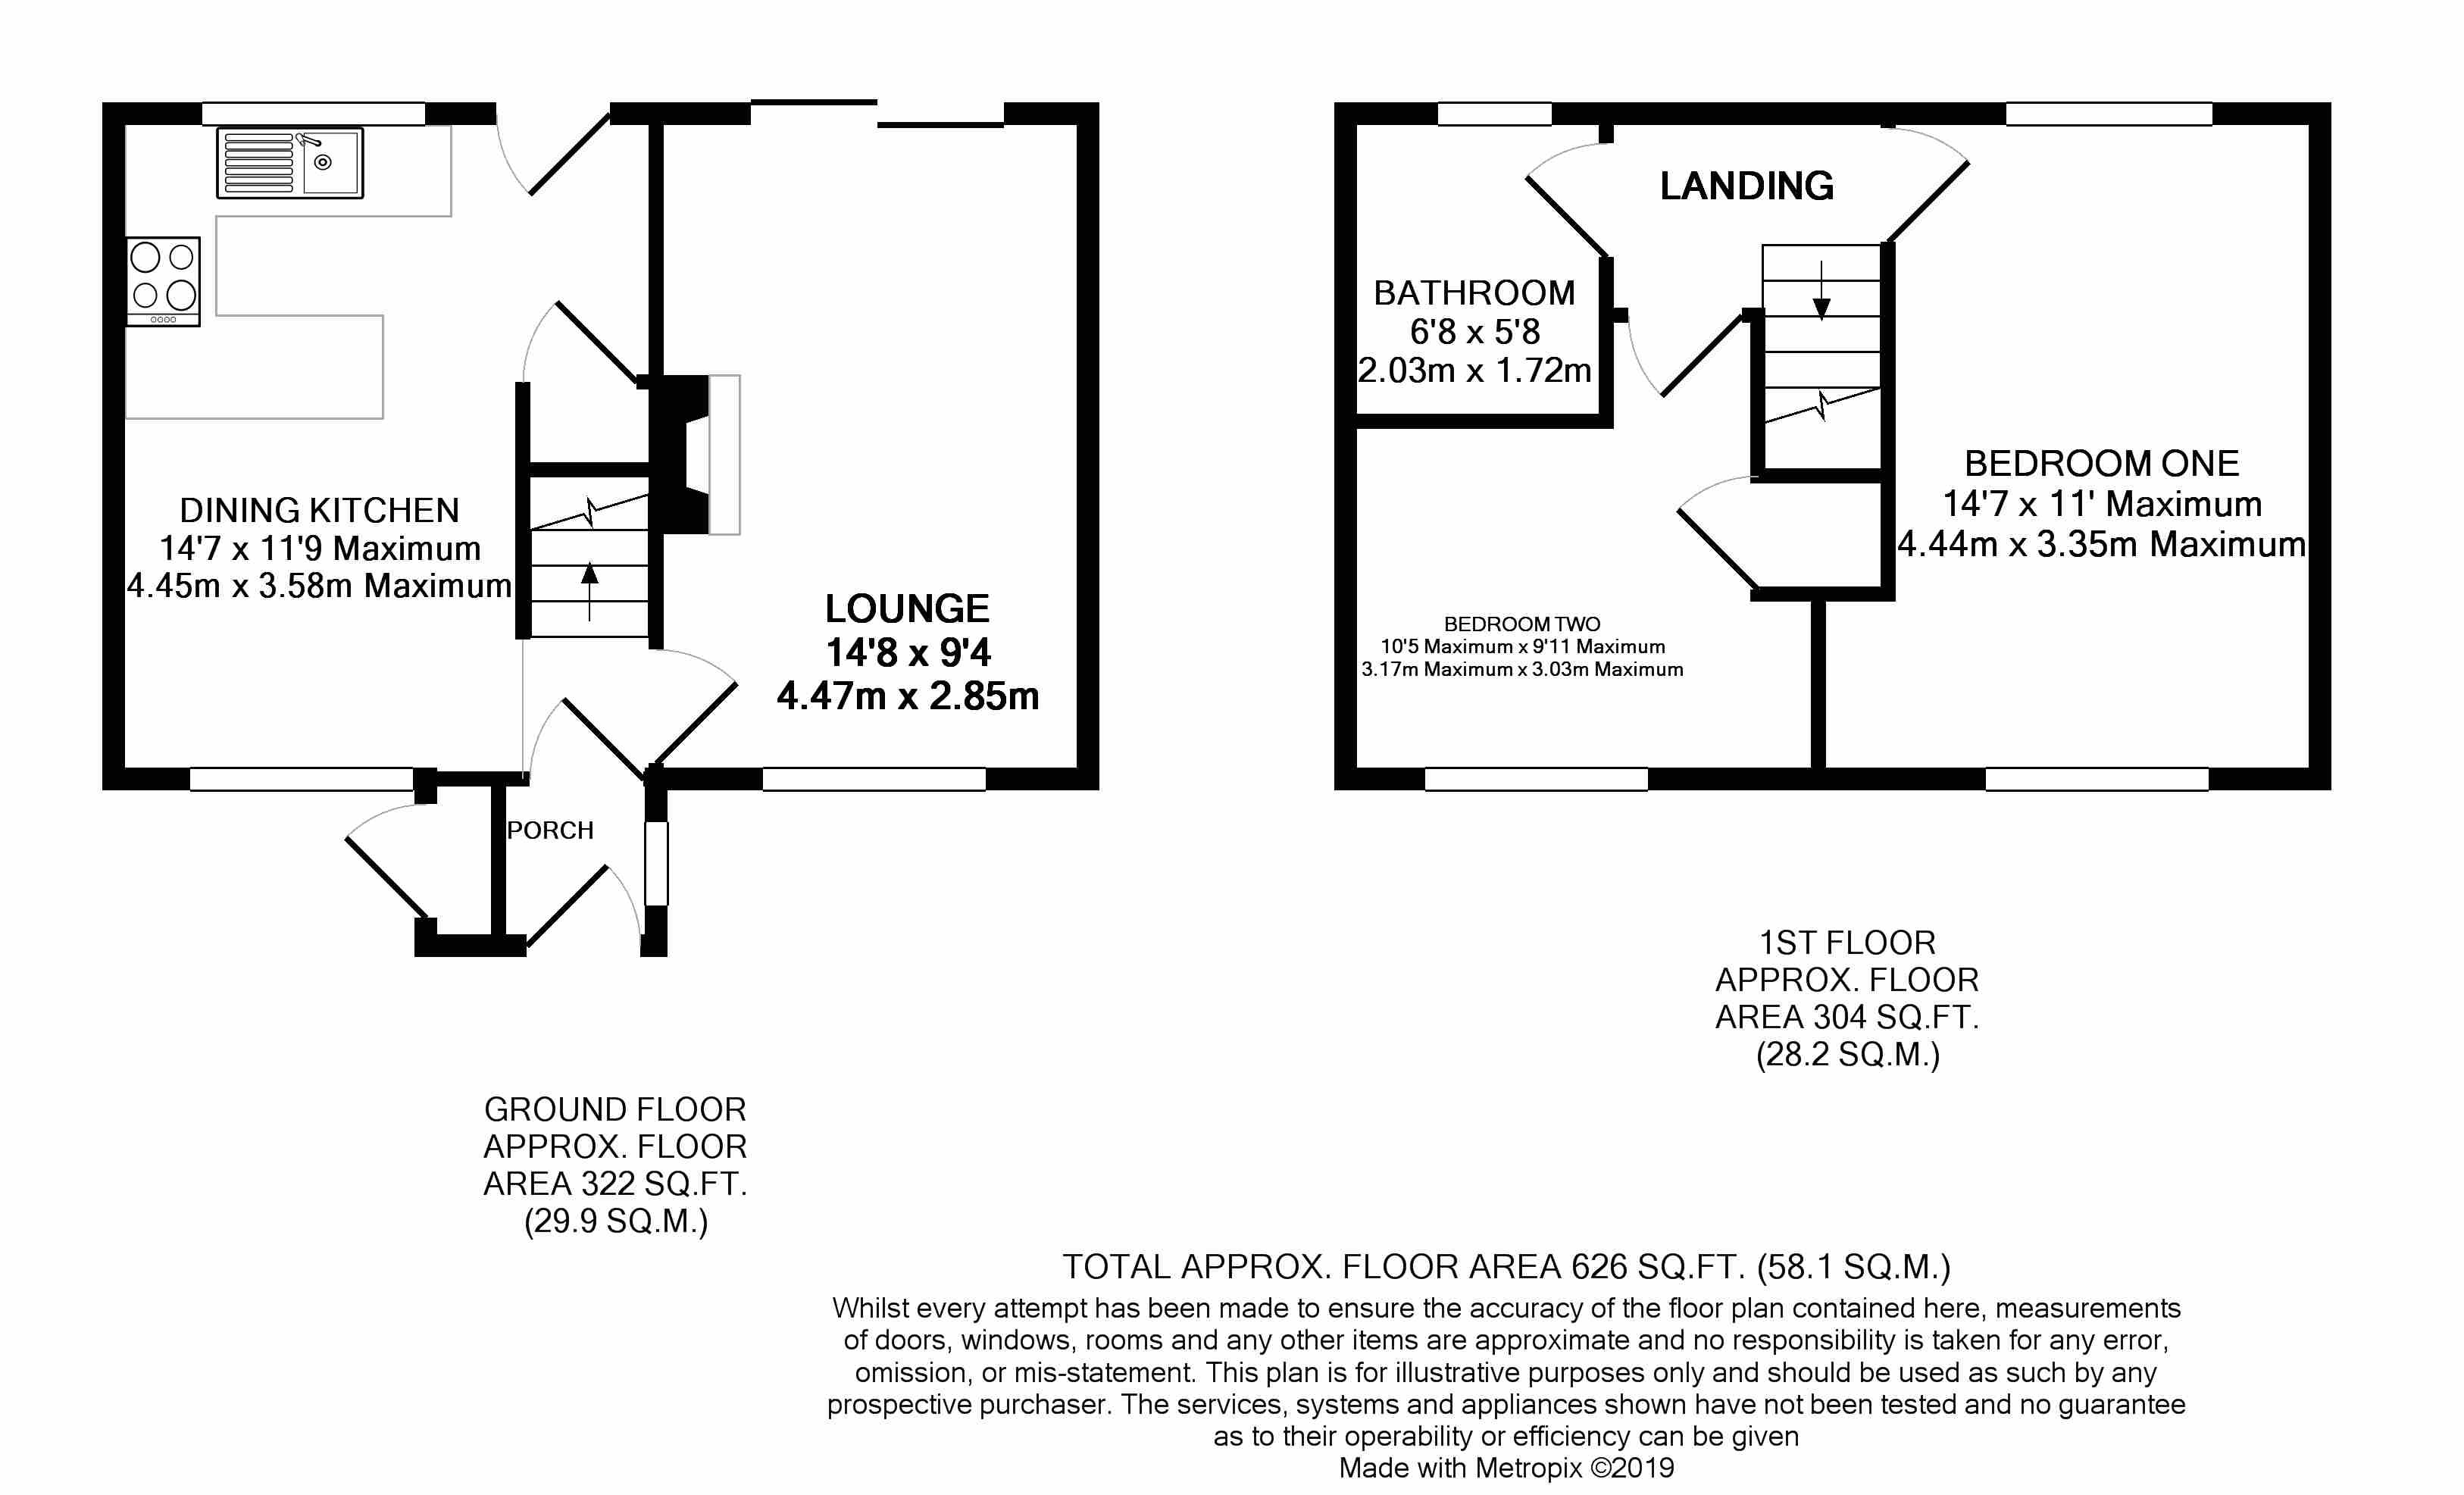door: (1874, 122, 1968, 250), (1623, 301, 1744, 400), (516, 291, 637, 386), (491, 104, 612, 199), (528, 696, 646, 791), (523, 865, 641, 960), (1668, 472, 1765, 586), (1522, 139, 1617, 255), (648, 648, 743, 762), (347, 799, 438, 914)
